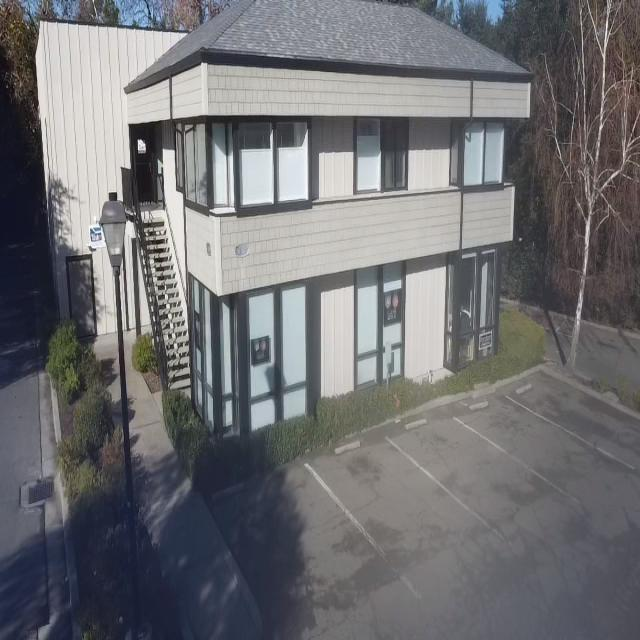Building: (35, 0, 535, 439)
Pole: (99, 193, 153, 640)
Tree: (529, 0, 640, 372)
